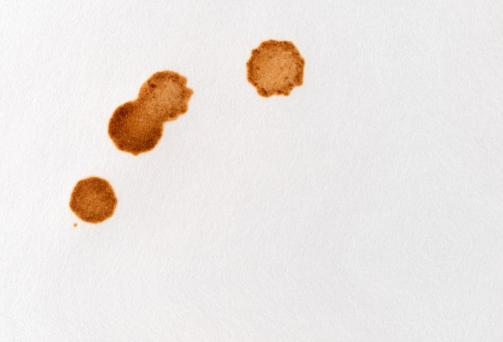stain: (105, 67, 195, 162), (244, 35, 309, 99), (68, 174, 120, 227)
